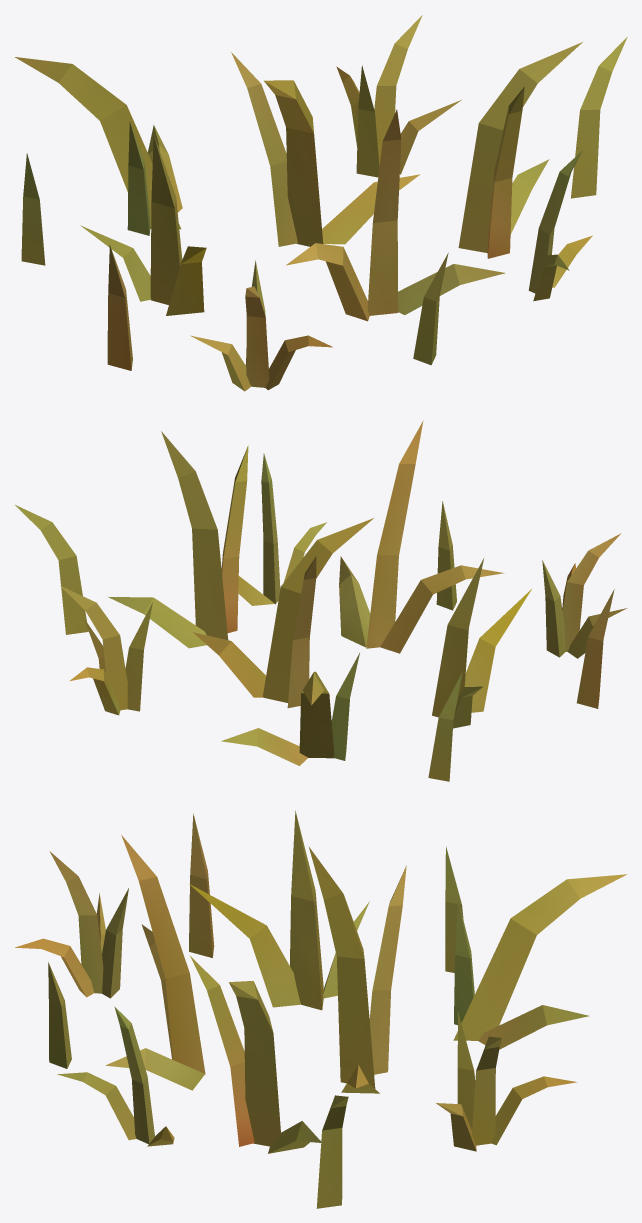
File: mega-pack-cylinder-018.glb
The picture shows the model from 3 angles, top to bottom: view 1: azimuth 30°, elevation 25°; view 2: azimuth 150°, elevation 25°; view 3: azimuth 270°, elevation 25°; orthographic projection. The views are drawn at different scales.
Visible parts, largest first — view 1: Cylinder.018; view 2: Cylinder.018; view 3: Cylinder.018.
Part boxes in pixels (x1,y1,x2,y2): Cylinder.018: (15, 15, 627, 391); Cylinder.018: (15, 421, 627, 781); Cylinder.018: (15, 810, 626, 1208).
Size of the model in its own units: 0.9101 by 0.3365 by 0.8147.
Materials: 1 (1 with a texture image).
